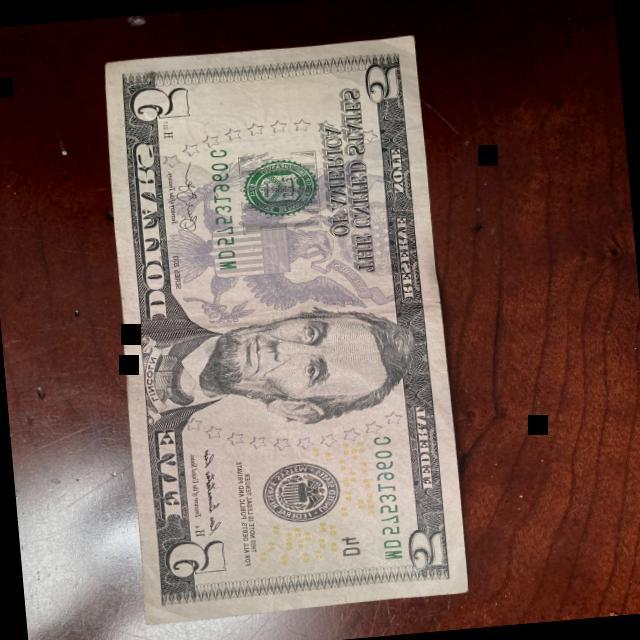five: (103, 34, 469, 622)
